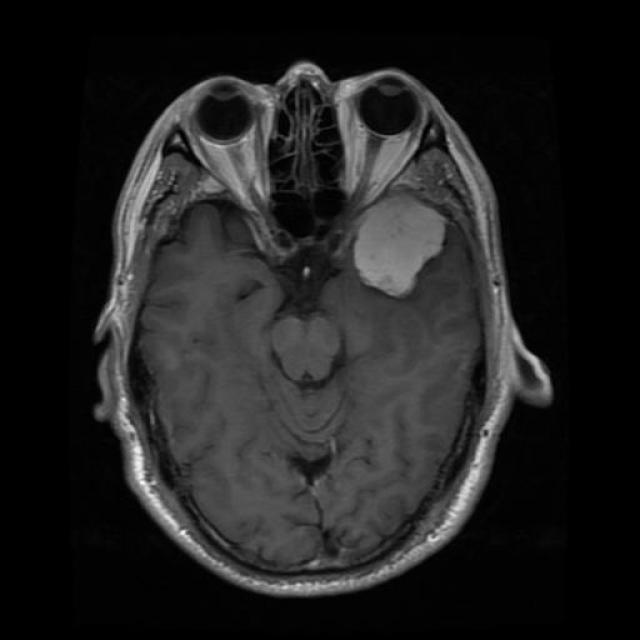Meningioma: (353, 194, 445, 296)
